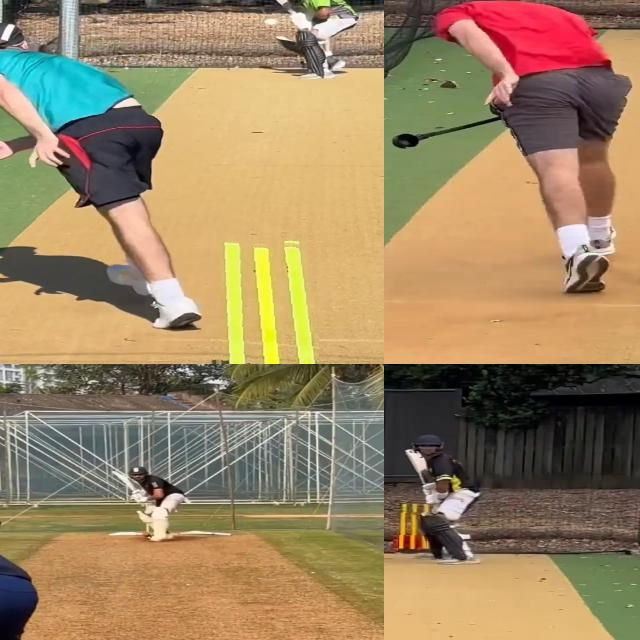Cricket ball: (263, 18, 279, 27), (142, 532, 152, 538)
Stumps: (207, 237, 319, 364), (399, 501, 429, 554)
